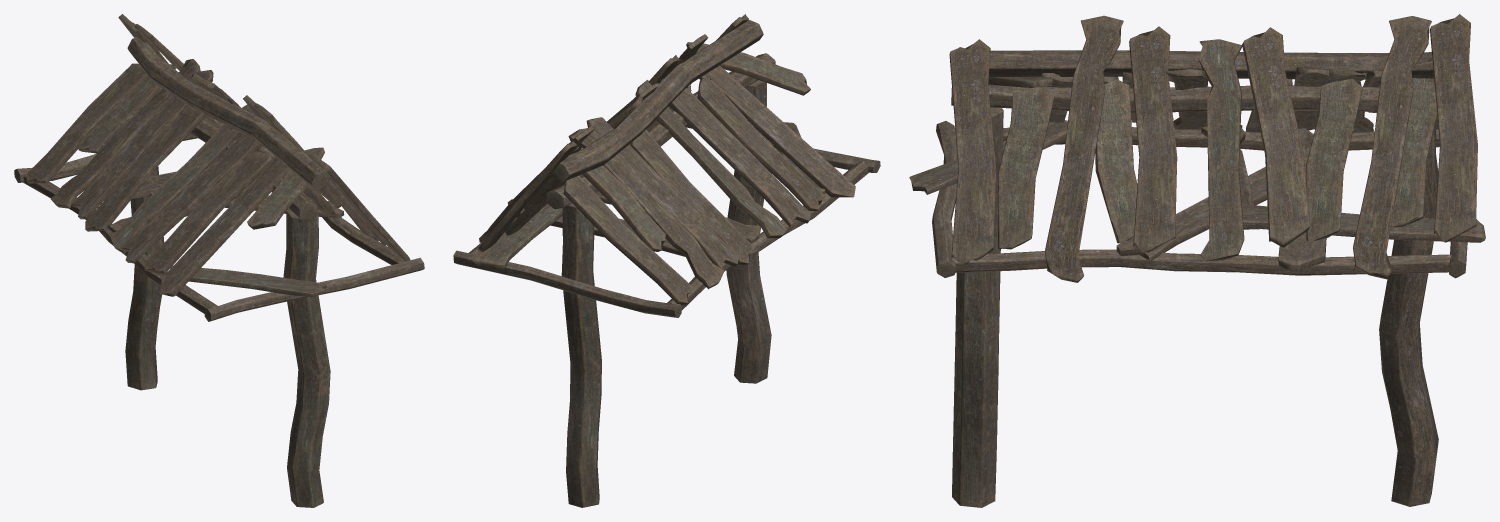
Rendered from SM_Hut.fbx.
The picture shows the model from 3 angles, left to right: view 1: azimuth 30°, elevation 25°; view 2: azimuth 150°, elevation 25°; view 3: azimuth 270°, elevation 25°; orthographic projection. The views are drawn at different scales.
Visible parts, largest first — view 1: SM_Hut_LOD0; view 2: SM_Hut_LOD0; view 3: SM_Hut_LOD0.
Part boxes in pixels (<box>): SM_Hut_LOD0: <box>14,14,424,507</box>; SM_Hut_LOD0: <box>453,14,880,507</box>; SM_Hut_LOD0: <box>909,14,1485,507</box>.
Size of the model in its own units: 229 by 358 by 332.
Materials: 1 (1 with a texture image).
